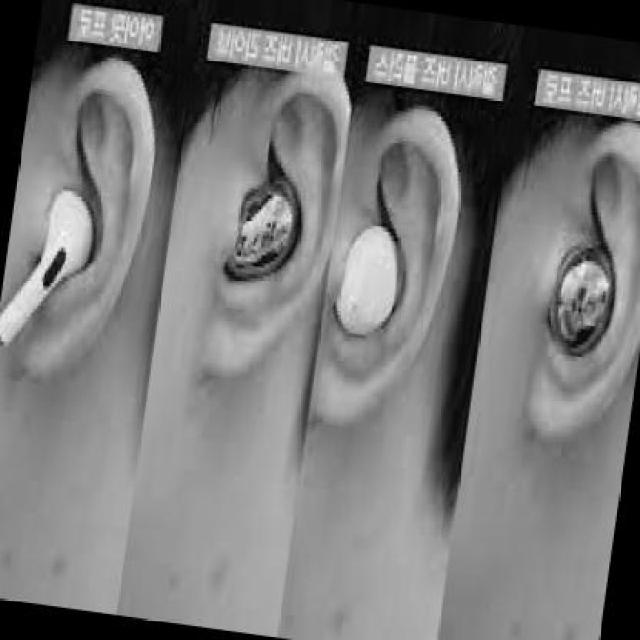earphone: (0, 186, 117, 366), (233, 165, 317, 311), (331, 199, 406, 355), (536, 235, 613, 380)
